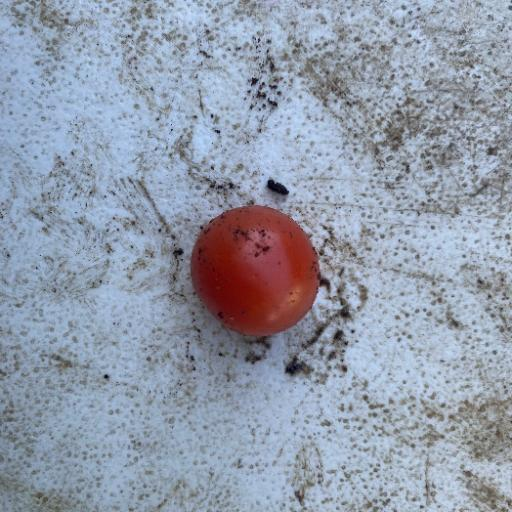Waste: (1, 1, 509, 510), (188, 203, 322, 339)
